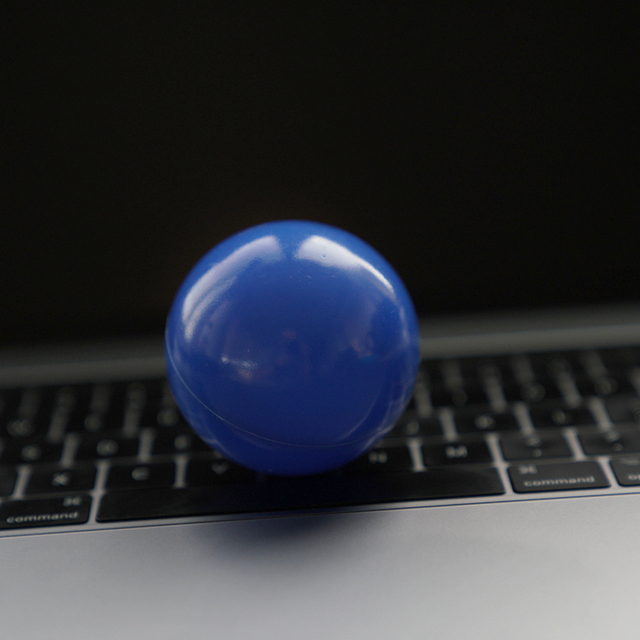Ball: (165, 221, 418, 481)
